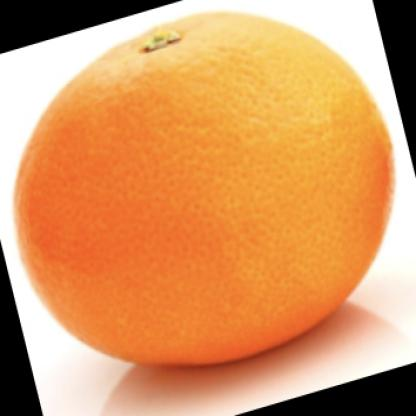orange: (12, 9, 395, 361)
